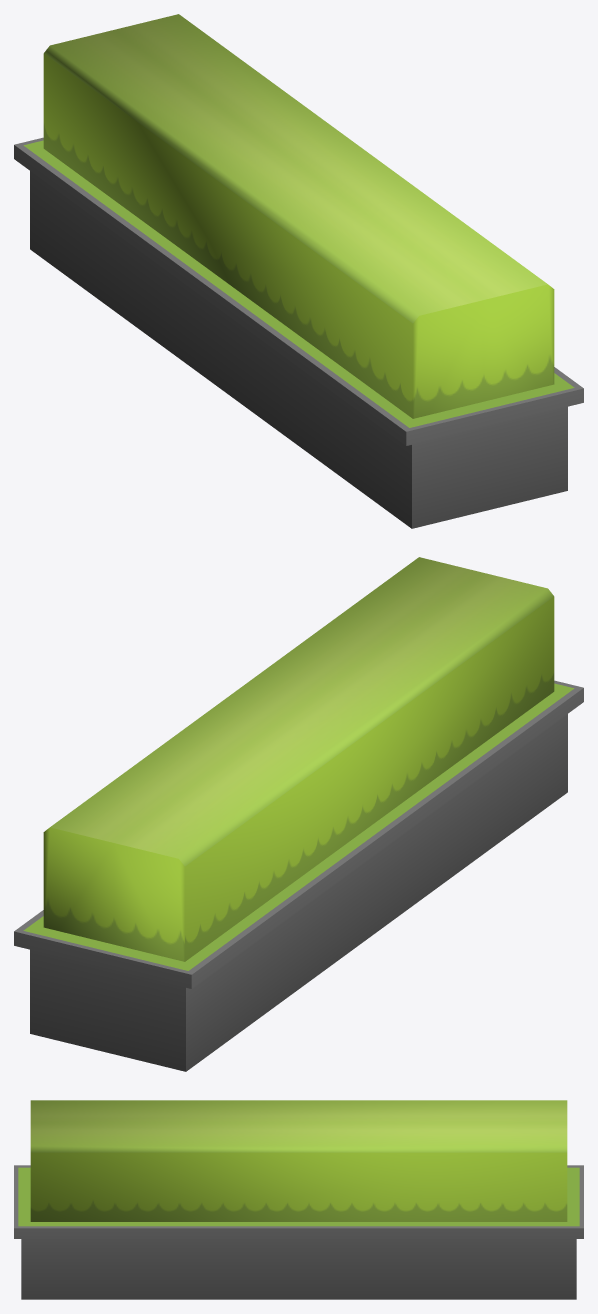
File: GrassPot.fbx
3 views of the same model, one above another, from view 1: azimuth 30°, elevation 25°; view 2: azimuth 150°, elevation 25°; view 3: azimuth 270°, elevation 25° (orthographic). The views are drawn at different scales.
Visible parts, largest first — view 1: GrassBasket_LOD0; view 2: GrassBasket_LOD0; view 3: GrassBasket_LOD0.
Part boxes in pixels (box(x1,y1,x2,y2)): GrassBasket_LOD0: box(14, 14, 583, 528); GrassBasket_LOD0: box(14, 557, 583, 1071); GrassBasket_LOD0: box(14, 1100, 583, 1299).
Size of what is drawn, in the model's own units: 116 by 128 by 443.
